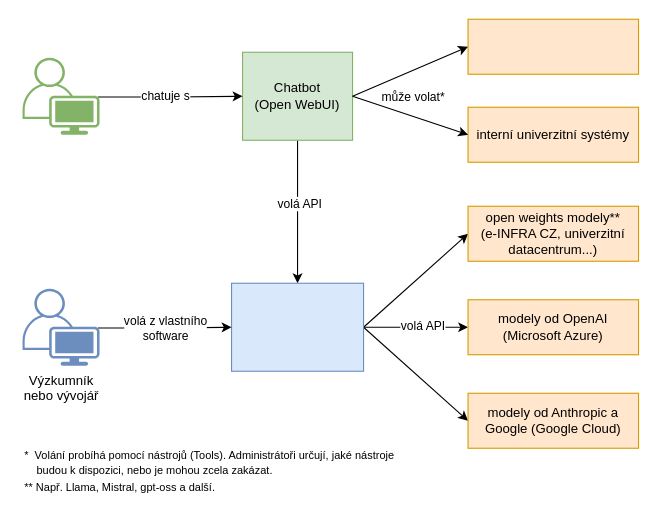
Some shapes in this 658 by 523 pixel diagram are drawn without their labels. Here are the shapes that lost their labels. From the top down, the box of each, then its label:
(467, 18, 639, 74): vyhledávání na webu a webové služby
(21, 57, 100, 135): Běžný uživatel
(230, 282, 364, 371): AI API Gateway (LiteLLM)
